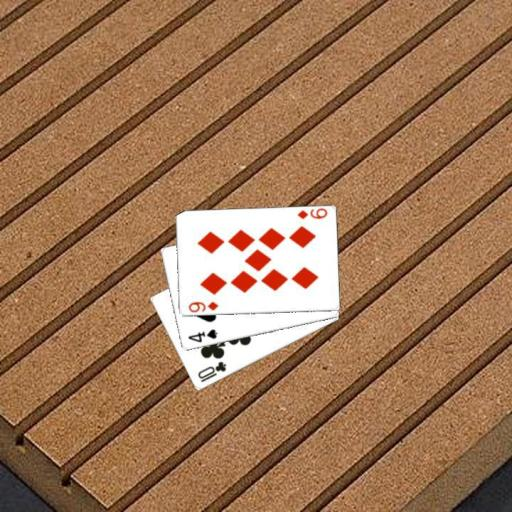10C: (194, 358, 228, 384)
4S: (185, 327, 218, 345)
9D: (185, 299, 220, 314), (295, 206, 329, 221)
